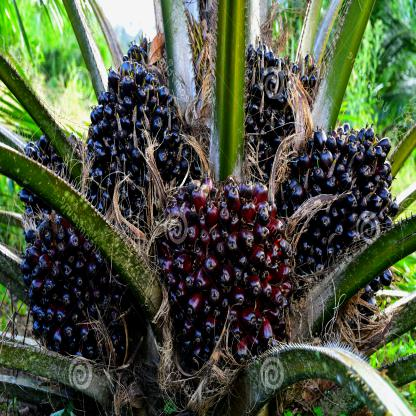1: (149, 176, 287, 374)
palm-oil: (280, 120, 405, 283), (88, 62, 200, 212), (33, 215, 133, 362), (241, 42, 307, 167), (21, 128, 79, 205)
